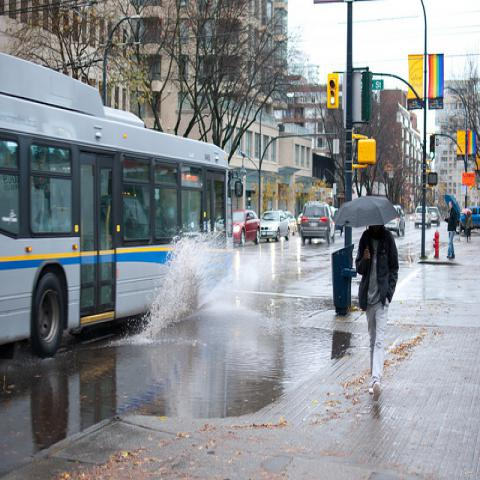bus: (0, 51, 236, 359)
car: (302, 202, 336, 244), (232, 210, 261, 247), (260, 209, 290, 242), (385, 204, 406, 236), (456, 206, 479, 233), (296, 202, 308, 234), (415, 206, 432, 228), (428, 205, 442, 226), (284, 210, 296, 234)
